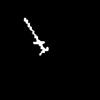double_crochet: (24, 18, 47, 54)
